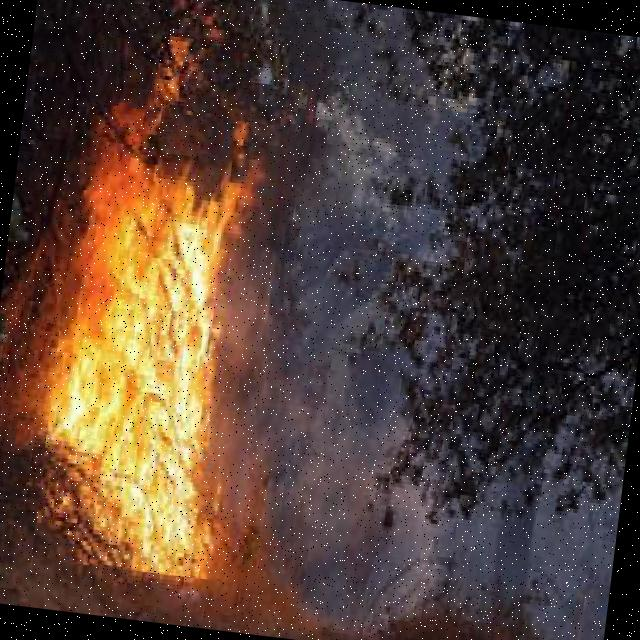fire: (31, 102, 290, 582)
